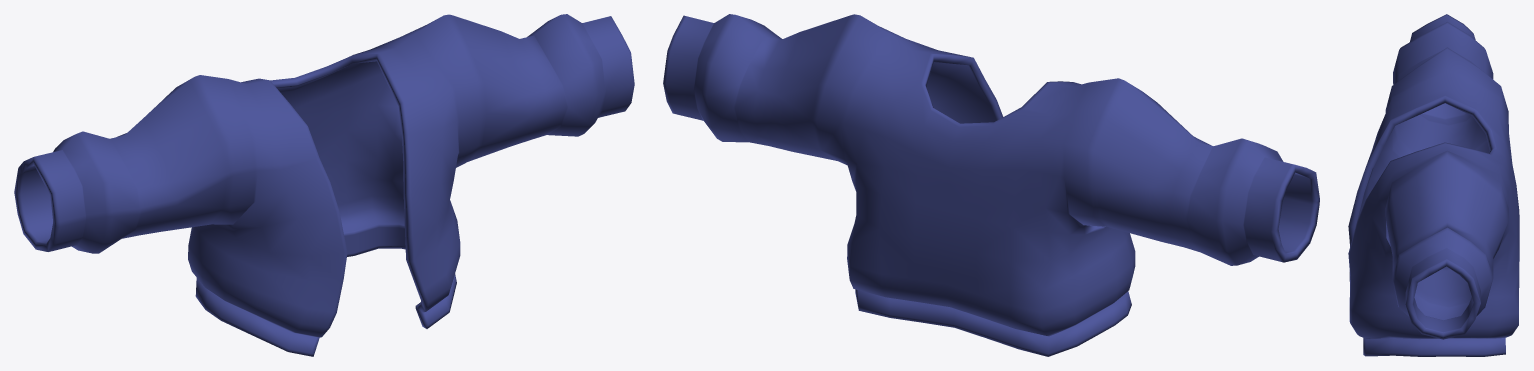
Rendered from MRTY_jacket_mapped_lowpoly.FBX.
3 views of the same model, side by side, from view 1: azimuth 30°, elevation 25°; view 2: azimuth 150°, elevation 25°; view 3: azimuth 270°, elevation 25° (orthographic). The views are drawn at different scales.
Parts seen in each view (by area): view 1: hair_lowpoly; view 2: hair_lowpoly; view 3: hair_lowpoly.
Boxes of the visible parts, x1,y1,x2,y2 form: hair_lowpoly: (14, 14, 634, 356); hair_lowpoly: (663, 14, 1319, 356); hair_lowpoly: (1348, 14, 1519, 356).
Bounding box in the file's own units: 83.42 × 24.52 × 36.3.
